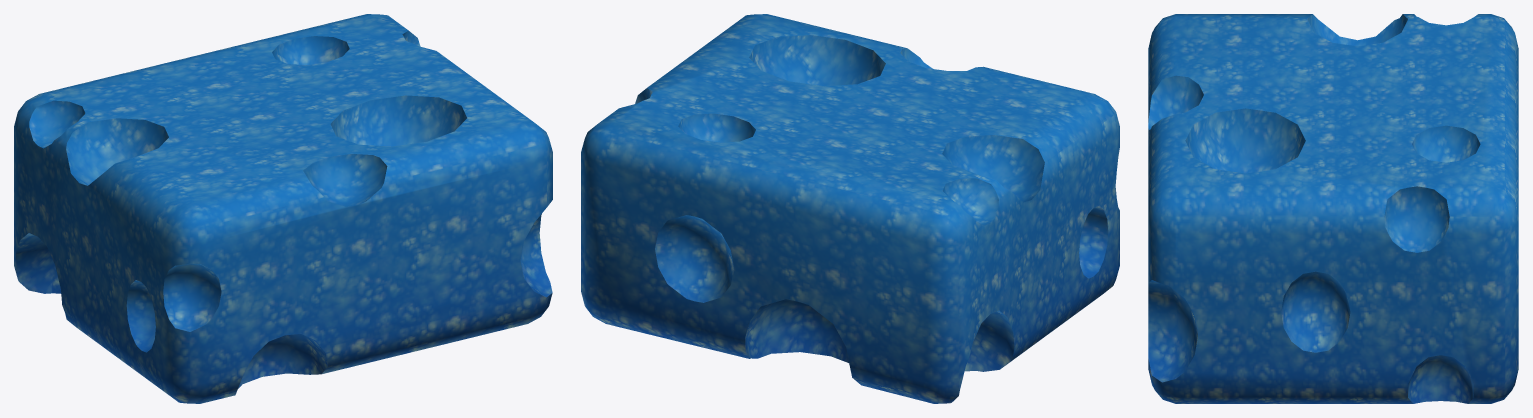
Rendered from BushSmall2.fbx.
3 views of the same model, side by side, from view 1: azimuth 30°, elevation 25°; view 2: azimuth 150°, elevation 25°; view 3: azimuth 270°, elevation 25° (orthographic). The views are drawn at different scales.
Visible parts, largest first — view 1: BushSmall2_LOD0; view 2: BushSmall2_LOD0; view 3: BushSmall2_LOD0.
Part boxes in pixels (bbox=[...]): BushSmall2_LOD0: bbox=[14, 14, 552, 403]; BushSmall2_LOD0: bbox=[581, 14, 1119, 403]; BushSmall2_LOD0: bbox=[1148, 14, 1518, 403].
Size of what is drawn, in the model's own units: 6.39 by 3.17 by 5.
